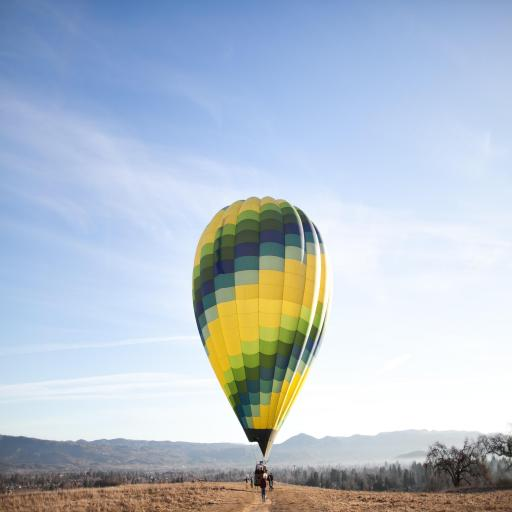hot air ballon: (192, 199, 333, 485)
